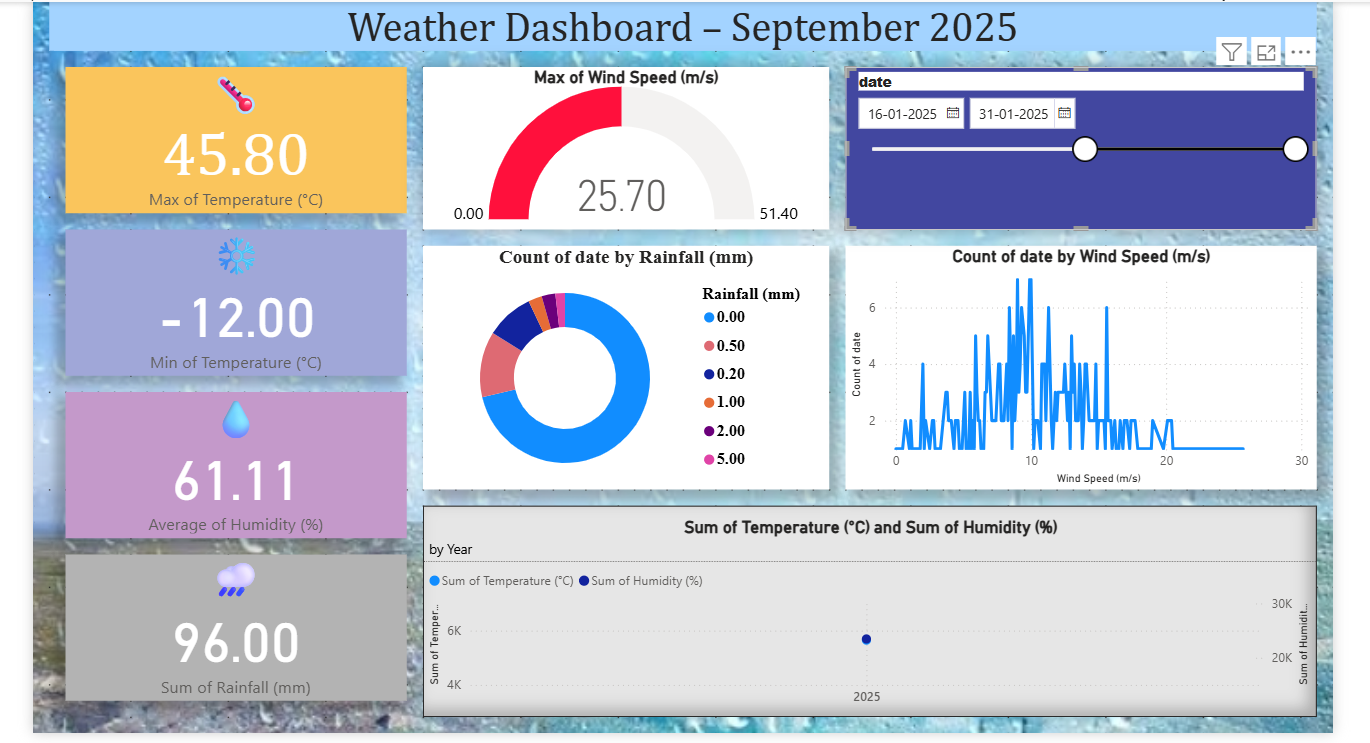

Layout of this report page (visuals, bound fields, positions):
{"tool":"powerbi","page":{"name":"Page 1","canvas":[1280,720],"ordinal":0},"visuals":[{"type":"textbox","title":"Weather Dashboard – September 2025","box":[16,0,1248,48],"z":0},{"type":"card","title":"🌡️","fields":{"Values":["Max(weather_2025.Temperature (°C))"]},"box":[32,64,336,144],"z":1000},{"type":"card","title":"❄️","fields":{"Values":["Min(weather_2025.Temperature (°C))"]},"box":[32,224,336,144],"z":2000},{"type":"card","title":"💧","fields":{"Values":["Avg(weather_2025.Humidity (%))"]},"box":[32,384,336,144],"z":3000},{"type":"card","title":"🌧️","fields":{"Values":["Sum(weather_2025.Rainfall (mm))"]},"box":[32,544,336,144],"z":4000},{"type":"lineChart","fields":{"Category":["weather_2025.date.Variation.Date Hierarchy.Year","weather_2025.date.Variation.Date Hierarchy.Quarter","weather_2025.date.Variation.Date Hierarchy.Month","weather_2025.date.Variation.Date Hierarchy.Day"],"Y":["Sum(weather_2025.Temperature (°C))"],"Y2":["Sum(weather_2025.Humidity (%))"]},"box":[384,496,880,208],"z":5000},{"type":"gauge","fields":{"Y":["Max(weather_2025.Wind Speed (m/s))"]},"box":[384,64,400,160],"z":6000},{"type":"slicer","fields":{"Values":["weather_2025.date"]},"box":[800,64,464,160],"z":7000},{"type":"donutChart","fields":{"Y":["CountNonNull(weather_2025.date)"],"Category":["weather_2025.Rainfall (mm)"]},"box":[384,240,400,240],"z":8000},{"type":"lineChart","fields":{"Y":["CountNonNull(weather_2025.date)"],"Category":["weather_2025.Wind Speed (m/s)"]},"box":[800,240,464,240],"z":9000}]}

Visuals, with their boxes in screenshot pixels (x1, y1, x2, y2):
"Weather Dashboard – September 2025" textbox: [45,14,1313,63]
"🌡️" card: [61,79,403,226]
"❄️" card: [61,242,403,388]
"💧" card: [61,405,403,551]
"🌧️" card: [61,567,403,714]
lineChart - weather_2025.date.Variation.Date Hierarchy.Year x weather_2025.date.Variation.Date Hierarchy.Quarter: [419,518,1313,730]
gauge - Max(weather_2025.Wind Speed (m/s)): [419,79,825,242]
slicer - weather_2025.date: [842,79,1313,242]
donutChart - CountNonNull(weather_2025.date) x weather_2025.Rainfall (mm): [419,258,825,502]
lineChart - CountNonNull(weather_2025.date) x weather_2025.Wind Speed (m/s): [842,258,1313,502]
